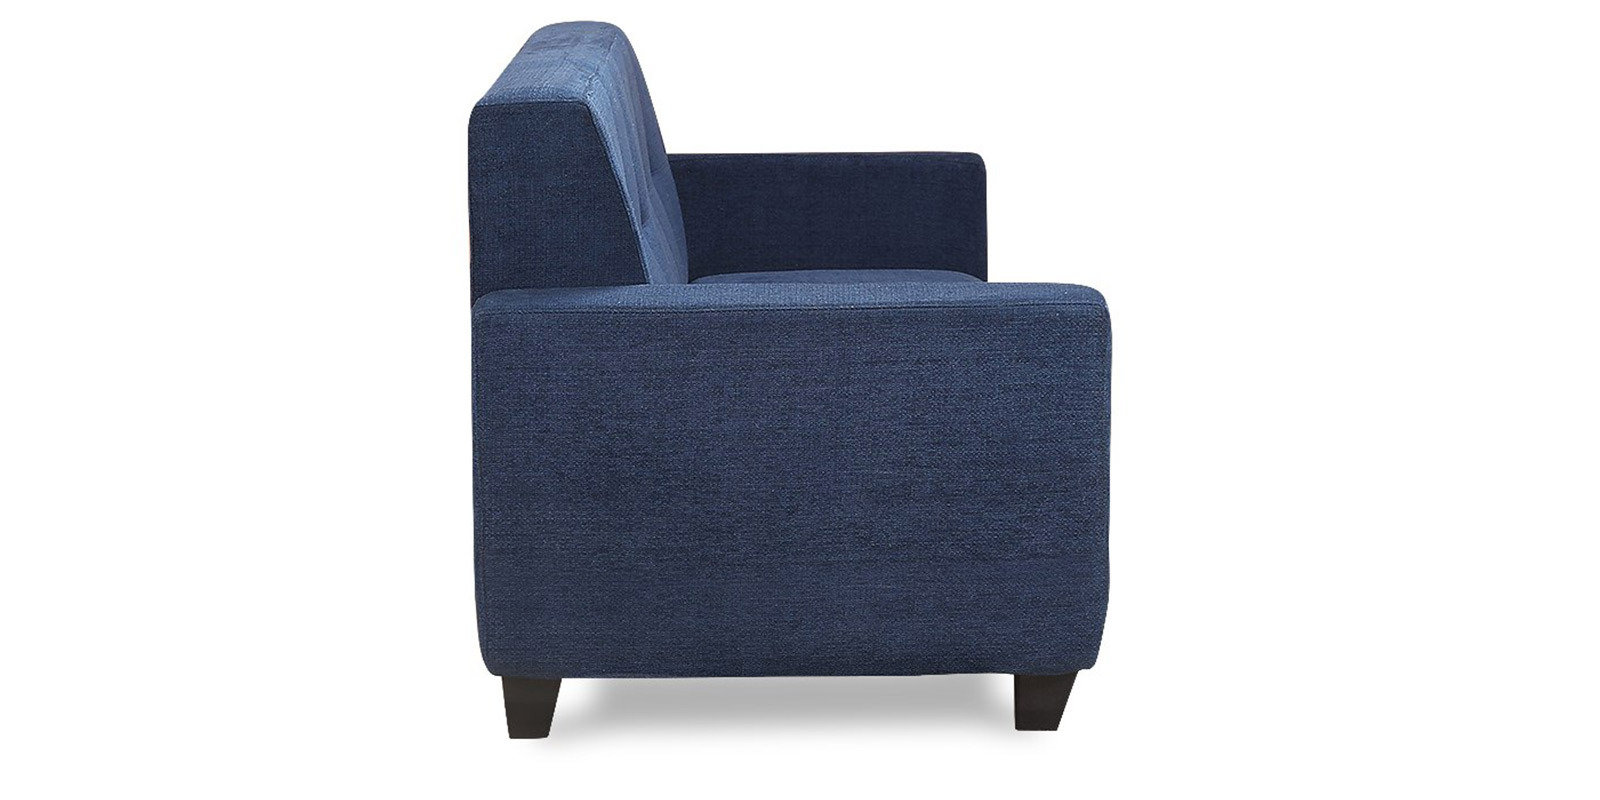Berlin Three Seater Sofa in Blue Colour by Crystal Furnitech: (443, 15, 1138, 739)
